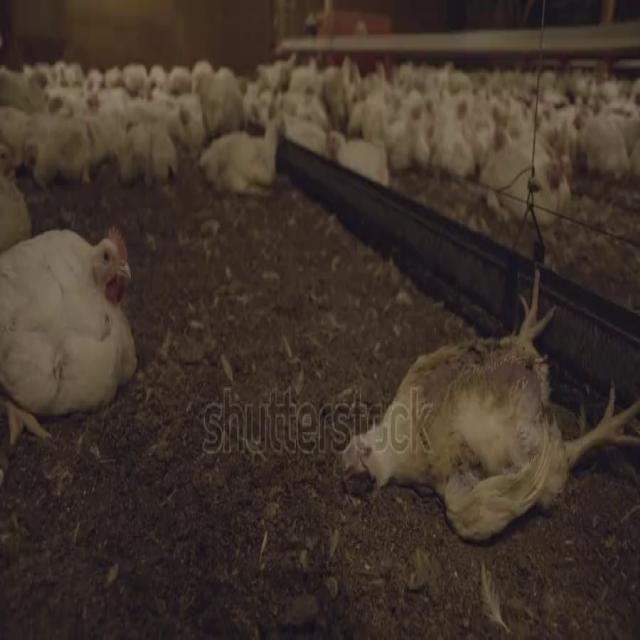injured-animals: (338, 257, 637, 548)
